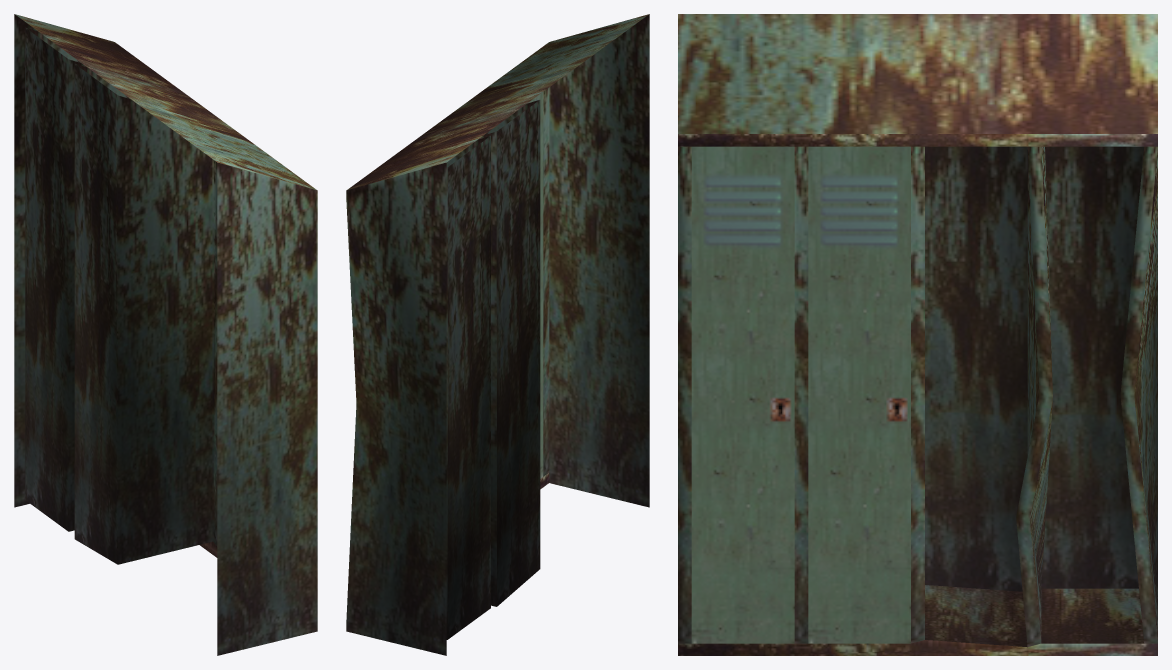
Rendered from Locker0.obj.
The picture shows the model from 3 angles, left to right: view 1: azimuth 30°, elevation 25°; view 2: azimuth 150°, elevation 25°; view 3: azimuth 270°, elevation 25°; orthographic projection. The views are drawn at different scales.
Visible parts, largest first — view 1: Locker0; view 2: Locker0; view 3: Locker0.
Part boxes in pixels (x1,y1,x2,y2): Locker0: (14,14,317,655); Locker0: (346,14,649,655); Locker0: (678,14,1157,655).
Bounding box in the file's own units: 2 × 9.4 × 7.
